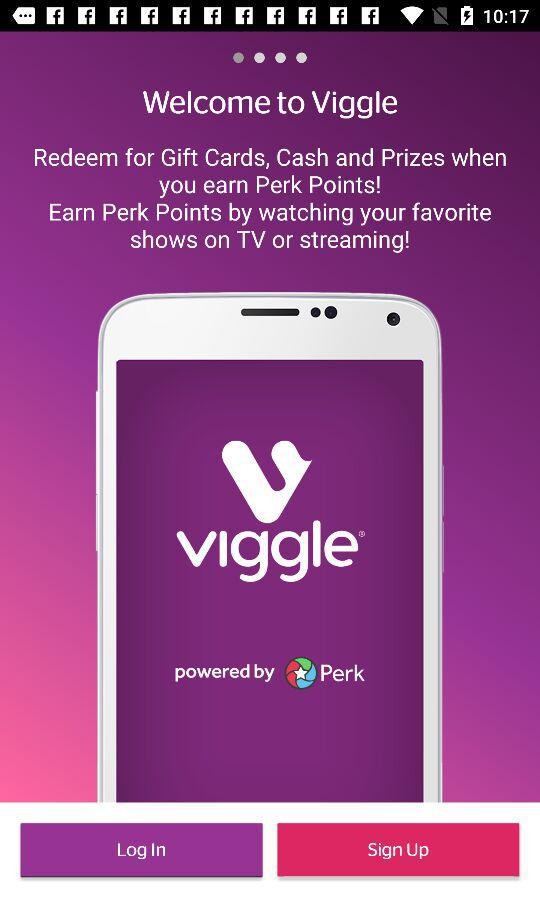Image: (96, 292, 443, 803)
PageIndicator: (232, 52, 309, 66)
Text: (35, 148, 507, 254), (143, 91, 398, 120)
TextButton: (21, 823, 264, 877), (277, 823, 520, 876)
UpperTaskBar: (1, 1, 540, 33)
